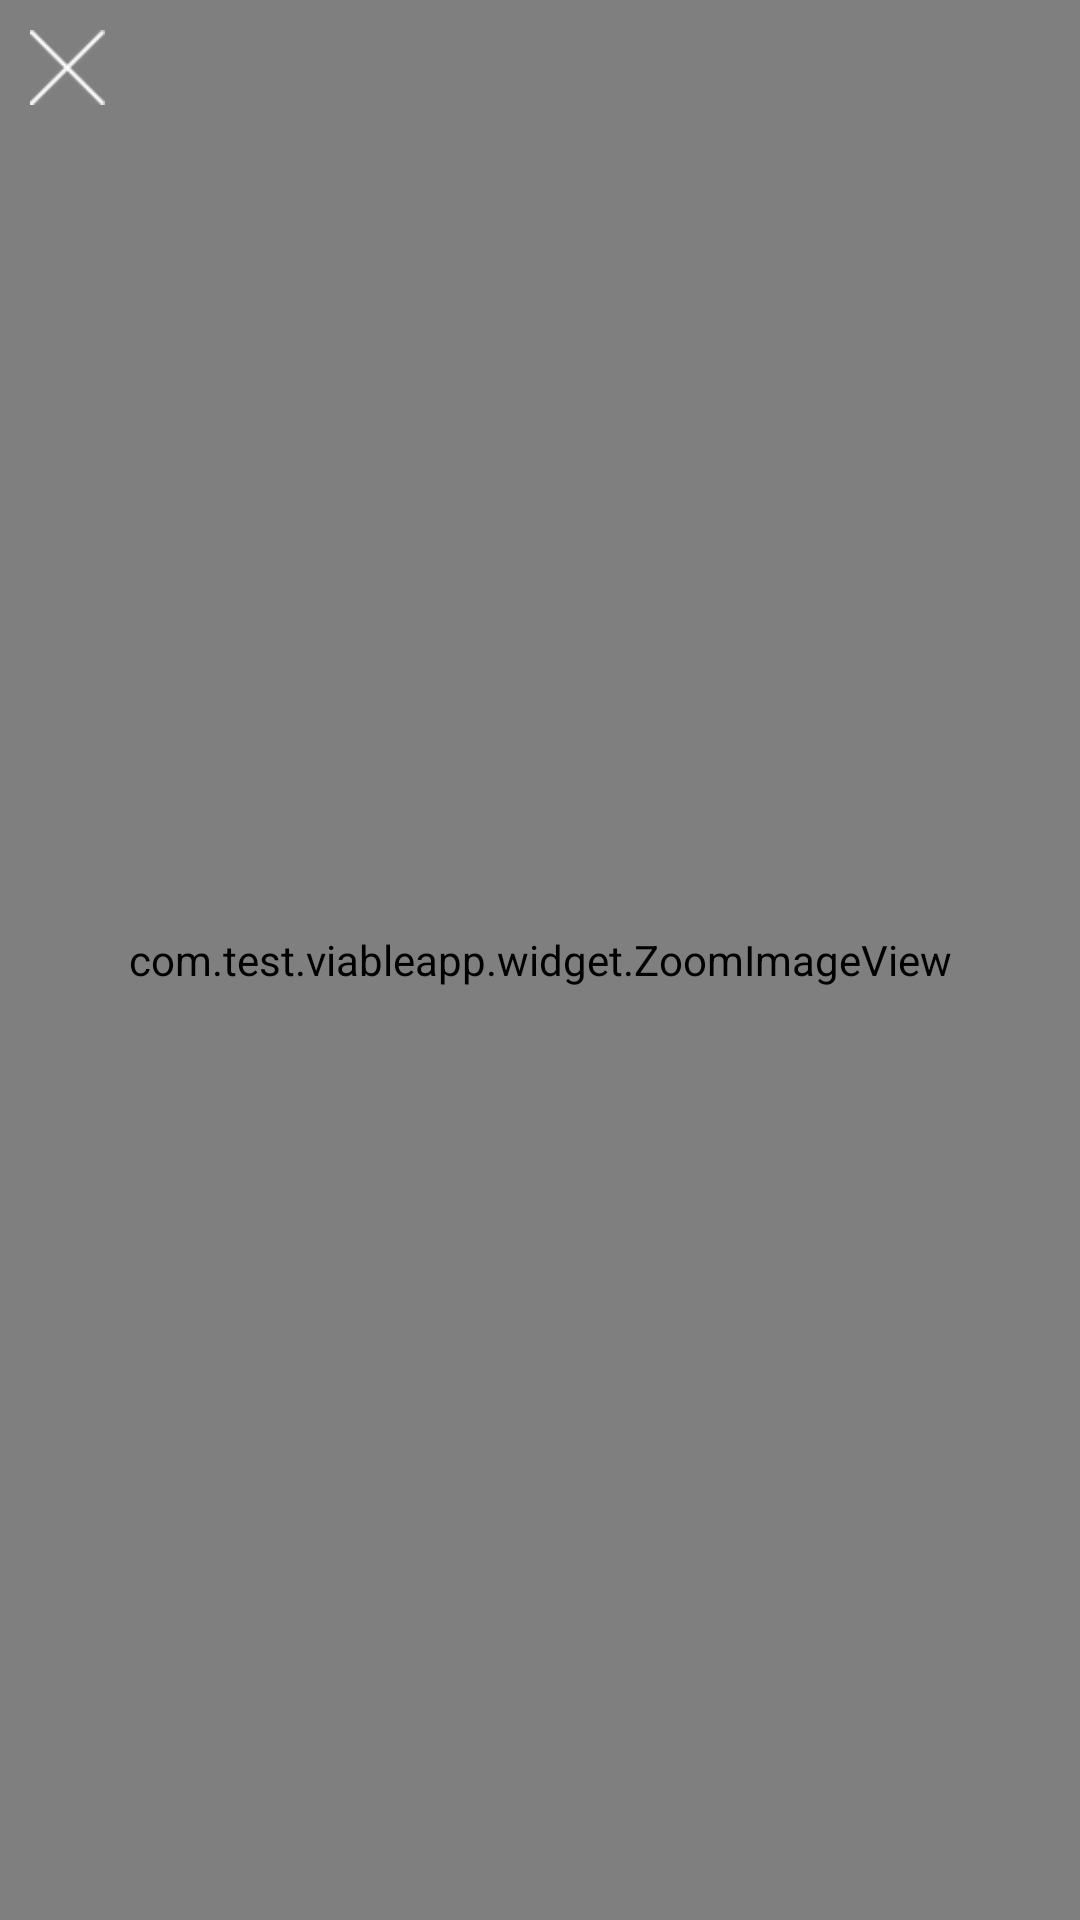

Locate icon controls on the screen. Image size 1080px×1920px, boxes as detection(x1, y1, x2, y2).
close: detection(30, 30, 105, 105)
